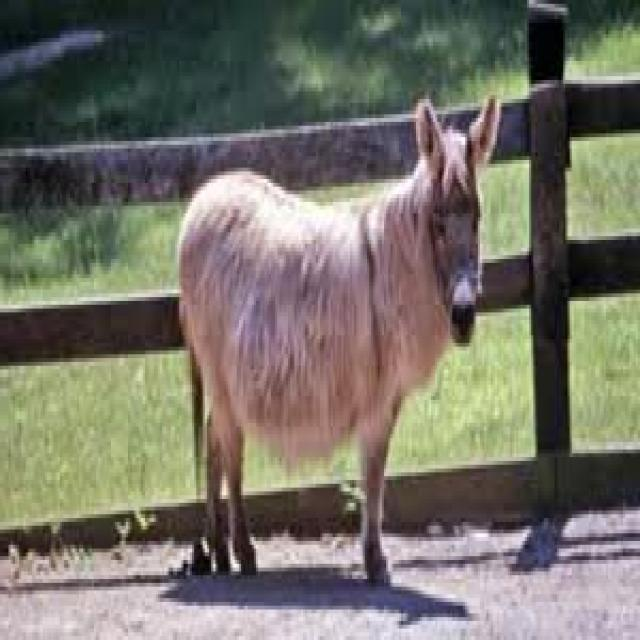donkey: (179, 95, 501, 579)
